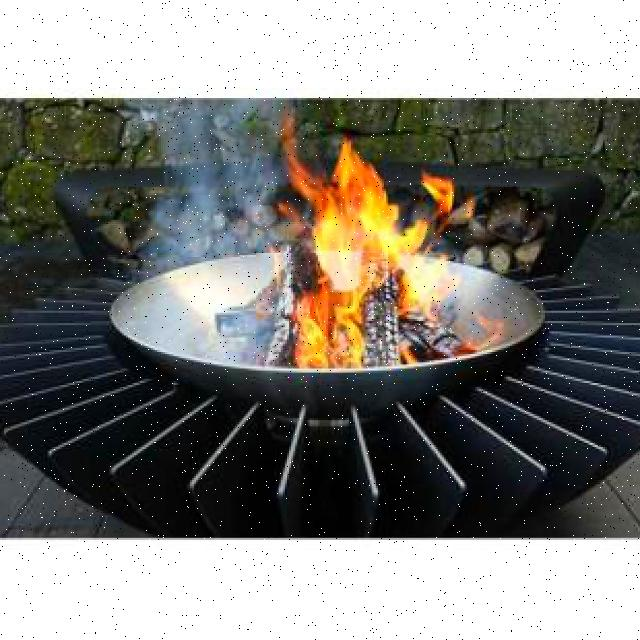fire: (276, 135, 462, 360)
smoke: (114, 88, 304, 333)
